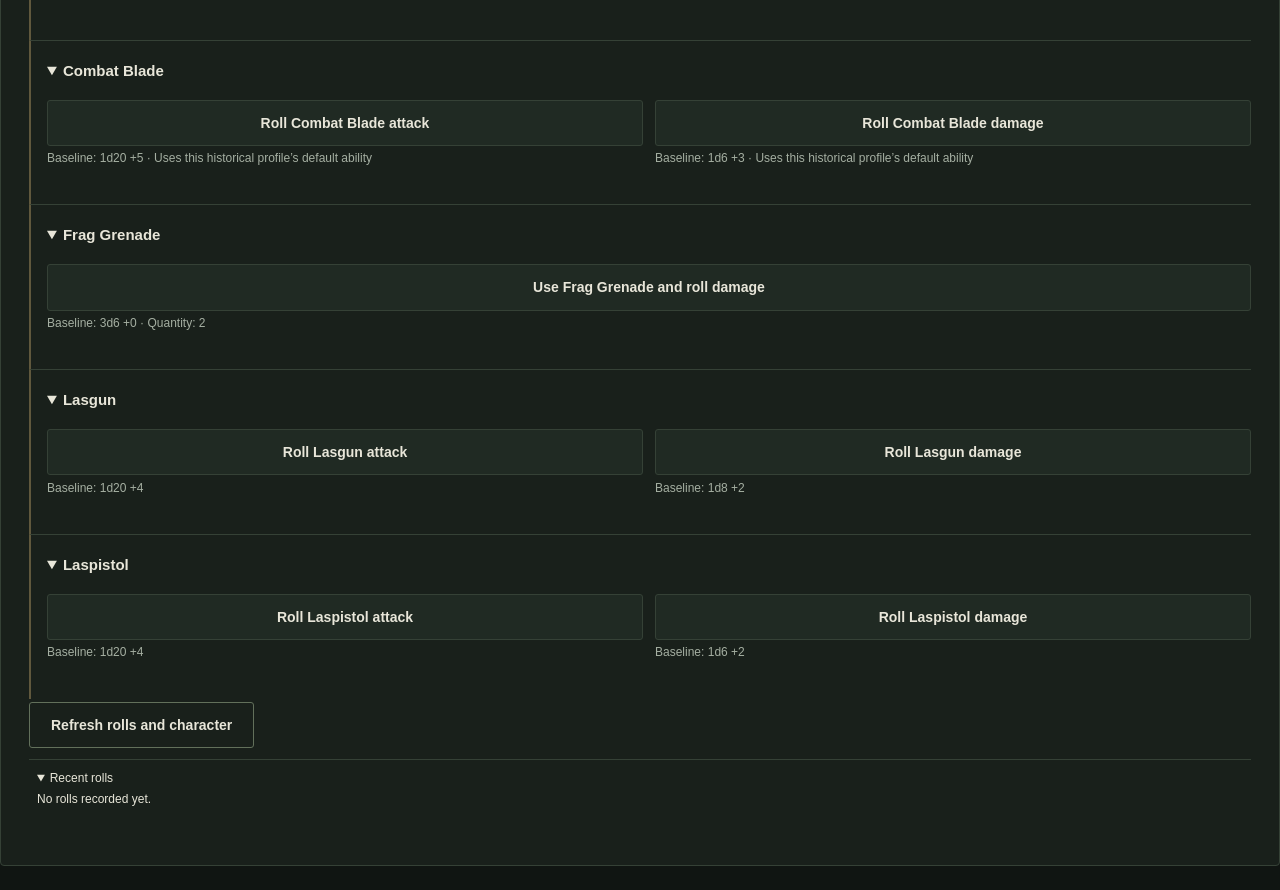
state conflicts show server feedback and refresh instead of fabricating results
(page scrolled)
Step 1. Click the button "Roll Lasgun attack" → (345, 452), box [47,429,643,475]
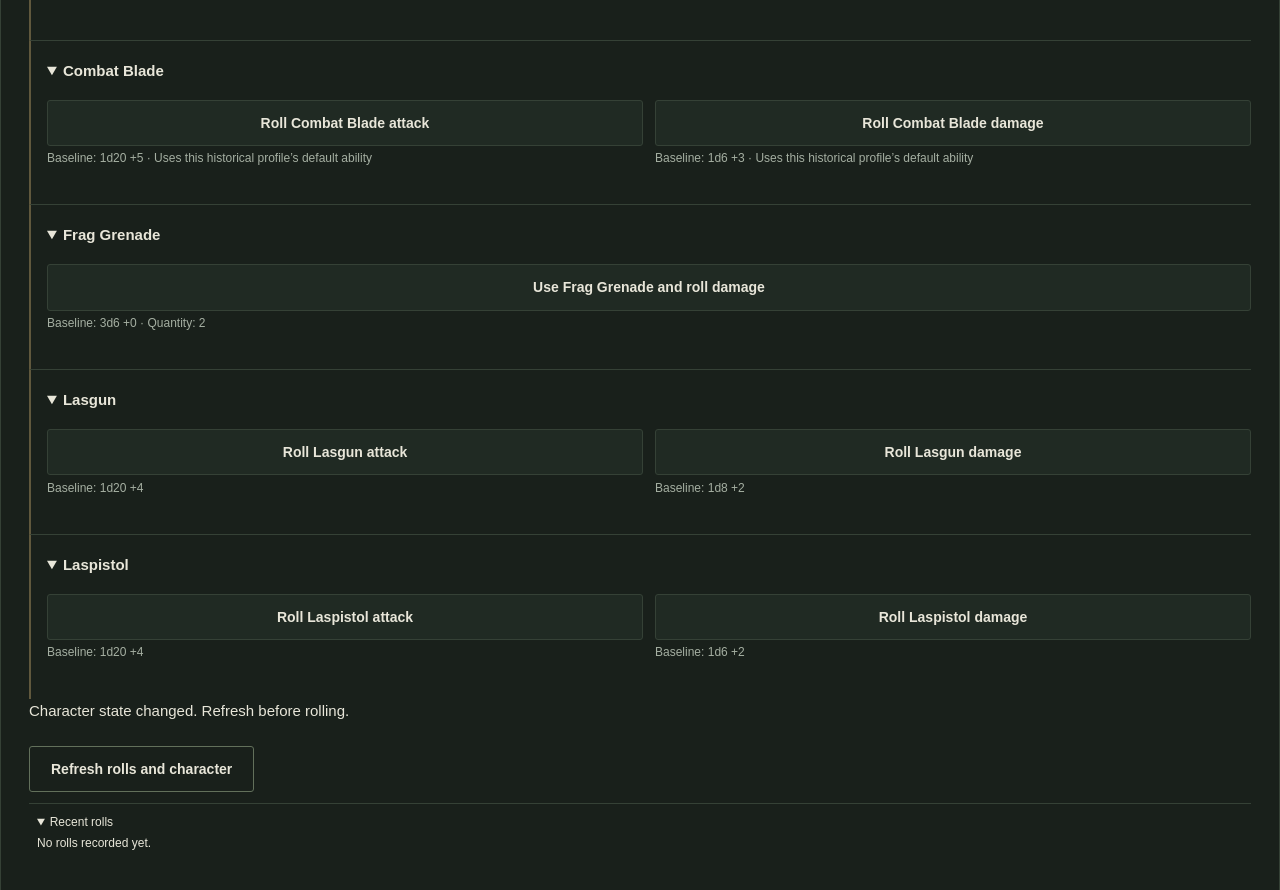
Check: the message shows "Character state changed", box [29,702,349,719]
